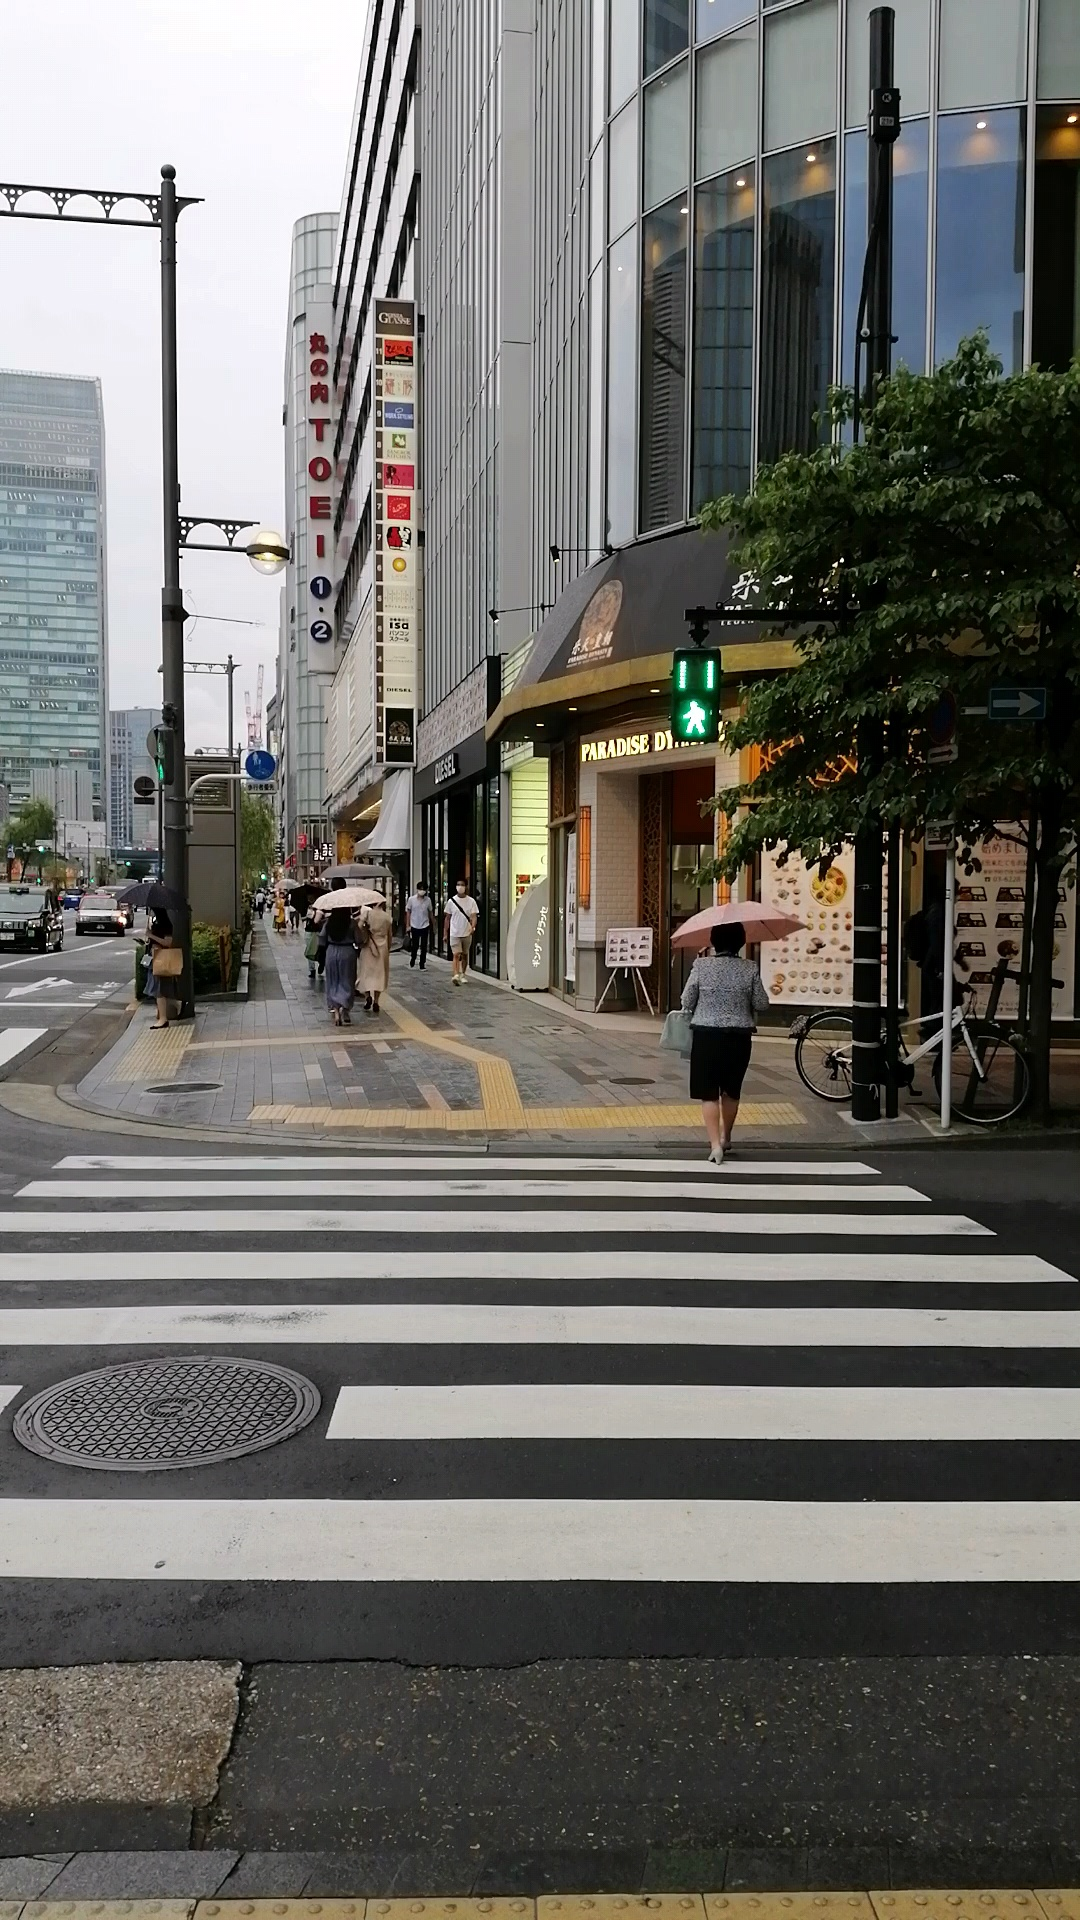green: (669, 642, 721, 744)
